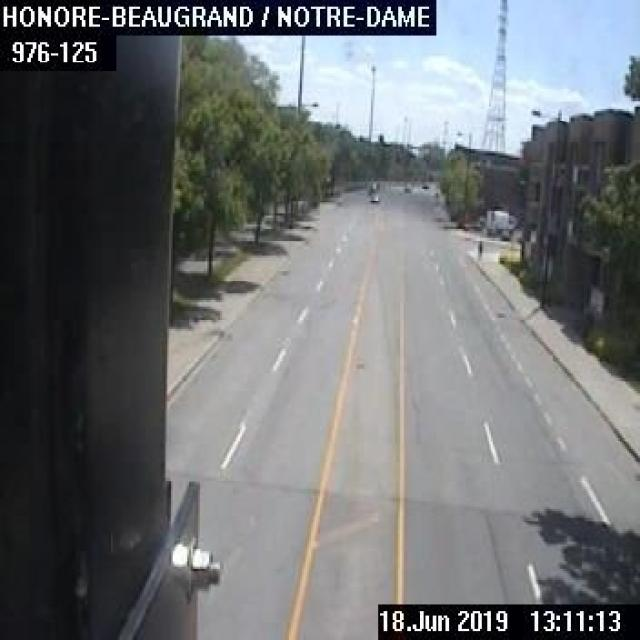pedestrian: (475, 238, 481, 256)
vehicle: (367, 180, 378, 200), (402, 185, 411, 191), (420, 182, 428, 188)
